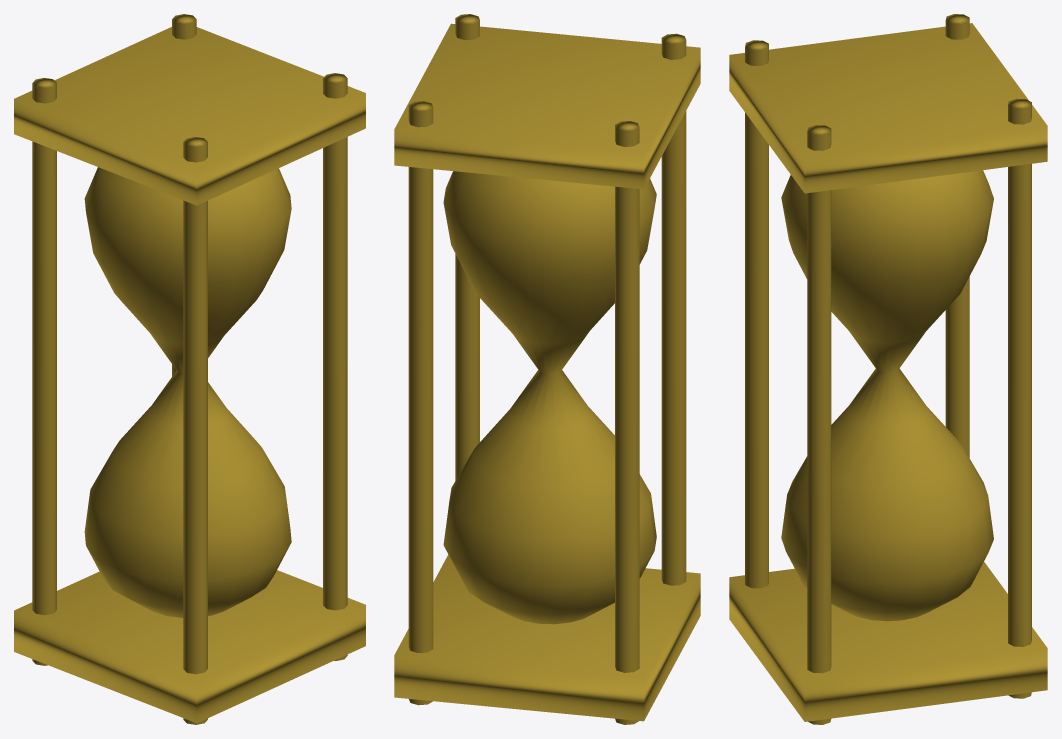
The model's file is Tools_Hourglass.fbx.
3 views of the same model, side by side, from view 1: azimuth 30°, elevation 25°; view 2: azimuth 150°, elevation 25°; view 3: azimuth 270°, elevation 25° (orthographic). The views are drawn at different scales.
Parts seen in each view (by area): view 1: HourGlass; view 2: HourGlass; view 3: HourGlass.
Part boxes in pixels (x1,y1,x2,y2): HourGlass: (14, 14, 365, 724); HourGlass: (394, 14, 700, 724); HourGlass: (729, 14, 1047, 724).
Size of the model in its own units: 0.1262 by 0.2582 by 0.1262.
